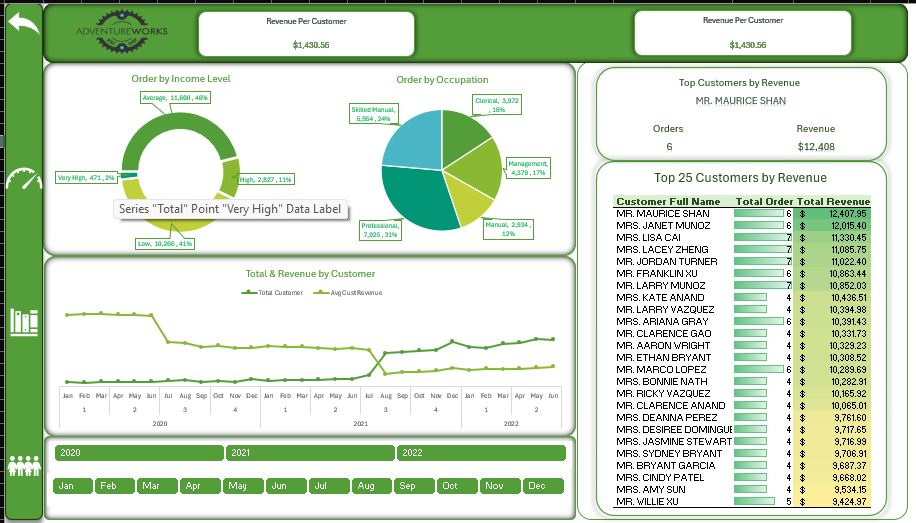

The dashboard page shown, as its layout file describes it:
{"tool":"powerbi","page":{"name":"Customer Details","canvas":[1280,720],"ordinal":3},"visuals":[{"type":"shape","box":[87.4,0,226.3,101.6],"z":0},{"type":"card","fields":{"Values":["Measure Table.Total Customers"]},"box":[88.3,0,226.7,101.7],"z":1000},{"type":"shape","box":[88.7,106.7,225,101.6],"z":2000},{"type":"card","fields":{"Values":["Measure Table.Avg Customer Revenue"]},"box":[88.3,106.7,225,101.7],"z":3000},{"type":"lineChart","title":"Revenue by Week","fields":{"Y":["Measure Table.Total Customers","Measure Table.Avg Customer Revenue"],"Category":["Calendar Lookup.Date Hierarchy.Start of Year","Calendar Lookup.Date Hierarchy.Start of Month","Calendar Lookup.Date Hierarchy.Start of Week"]},"box":[382.6,41.1,897.4,198.4],"z":4000},{"type":"donutChart","title":"Orders by Income Level","fields":{"Category":["Customer Lookup.Income Level"],"Y":["Measure Table.Total Orders"]},"box":[60,240,320.5,218],"z":5000},{"type":"shape","box":[0,0,56,720],"z":6000},{"type":"donutChart","title":"Orders by Occupation","fields":{"Y":["Measure Table.Total Orders"],"Category":["Customer Lookup.Occupation"]},"box":[60,496.1,320.5,223.9],"z":7000},{"type":"card","title":"Top Customer (by revenue)","fields":{"Values":["Customer Lookup.Full Name"]},"box":[870,270,400,106.7],"z":8000},{"type":"card","title":"Orders","fields":{"Values":["Measure Table.Total Orders"]},"box":[866.7,388.3,185,108.3],"z":9000},{"type":"card","title":"Revenue","fields":{"Values":["Measure Table.Total Revenue"]},"box":[1085,388.3,183.3,110],"z":10000},{"type":"pivotTable","fields":{"Rows":["Customer Lookup.CustomerKey"],"Values":["Customer Lookup.Full Name","Measure Table.Total Orders","Measure Table.Total Revenue"]},"box":[380.8,239.6,489.8,472],"z":11000},{"type":"slicer","title":"Year Filter","fields":{"Values":["Calendar Lookup.Year"]},"box":[866.7,498.3,401.7,115],"z":12000},{"type":"actionButton","box":[866.3,655.6,55.6,51.2],"z":13000},{"type":"textbox","box":[921.7,633.3,346.7,86.7],"z":14000},{"type":"actionButton","box":[0,0,55.4,39.3],"z":15000},{"type":"actionButton","box":[0,497.6,55.4,50.1],"z":16000},{"type":"actionButton","box":[0,584,55.4,50.1],"z":17000},{"type":"actionButton","box":[0,669.9,55.4,50.1],"z":18000},{"type":"actionButton","box":[0,411.2,55.4,50.1],"z":19000},{"type":"slicer","fields":{"Values":["Customer Metric Selection.Customer Metric Selection"]},"box":[618.5,0,466.6,39.3],"z":20000}]}

Visuals, with their boxes on the page's 1280x720 design canvas (x1, y1, x2, y2). These are canvas units, not pixel positions in the 916x523 screenshot, which may show the page scaled, cropped or inside an application window:
shape: box(87, 0, 314, 102)
card - Measure Table.Total Customers: box(88, 0, 315, 102)
shape: box(89, 107, 314, 208)
card - Measure Table.Avg Customer Revenue: box(88, 107, 313, 208)
"Revenue by Week" lineChart: box(383, 41, 1280, 240)
"Orders by Income Level" donutChart: box(60, 240, 380, 458)
shape: box(0, 0, 56, 720)
"Orders by Occupation" donutChart: box(60, 496, 380, 720)
"Top Customer (by revenue)" card: box(870, 270, 1270, 377)
"Orders" card: box(867, 388, 1052, 497)
"Revenue" card: box(1085, 388, 1268, 498)
pivotTable - Customer Lookup.CustomerKey x Customer Lookup.Full Name: box(381, 240, 871, 712)
"Year Filter" slicer: box(867, 498, 1268, 613)
actionButton: box(866, 656, 922, 707)
textbox: box(922, 633, 1268, 720)
actionButton: box(0, 0, 55, 39)
actionButton: box(0, 498, 55, 548)
actionButton: box(0, 584, 55, 634)
actionButton: box(0, 670, 55, 720)
actionButton: box(0, 411, 55, 461)
slicer - Customer Metric Selection.Customer Metric Selection: box(618, 0, 1085, 39)
